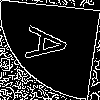A: (24, 25, 79, 66)
